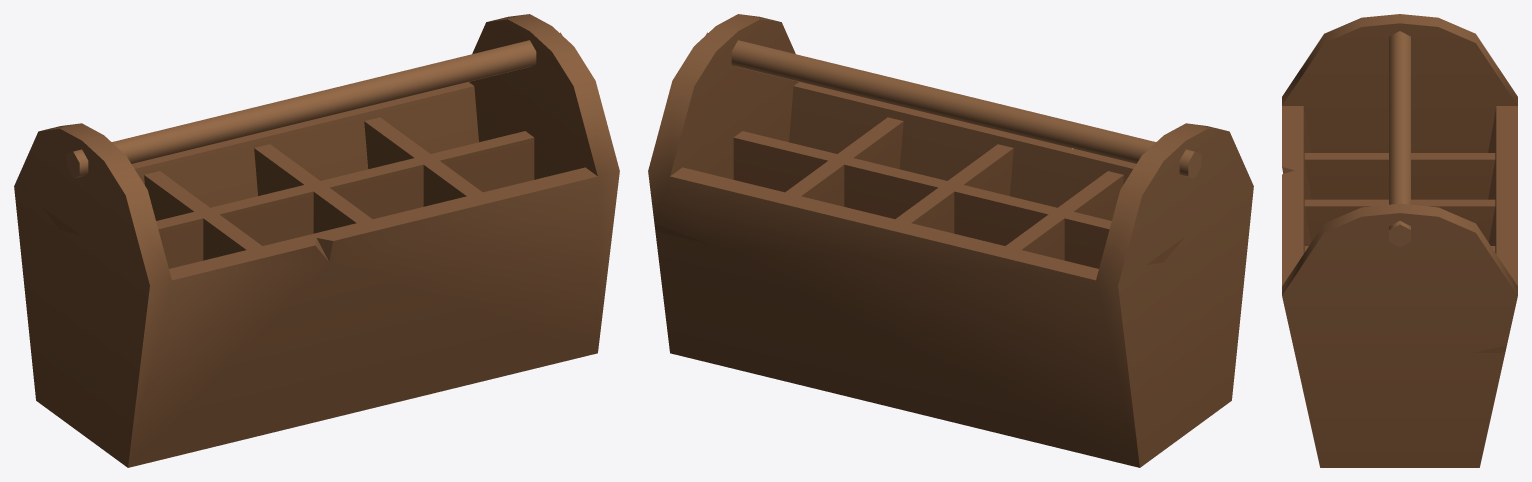
The model's file is PotionBottleHolder3.fbx.
3 views of the same model, side by side, from view 1: azimuth 30°, elevation 25°; view 2: azimuth 150°, elevation 25°; view 3: azimuth 270°, elevation 25° (orthographic). The views are drawn at different scales.
Parts seen in each view (by area): view 1: PotionBottleHolder3; view 2: PotionBottleHolder3; view 3: PotionBottleHolder3.
Boxes of the visible parts, left/top/right/bottom form: PotionBottleHolder3: left=14, top=14, right=619, bottom=467; PotionBottleHolder3: left=648, top=14, right=1253, bottom=467; PotionBottleHolder3: left=1282, top=14, right=1517, bottom=467.
Bounding box in the file's own units: 34.1 × 19.63 × 16.46.
